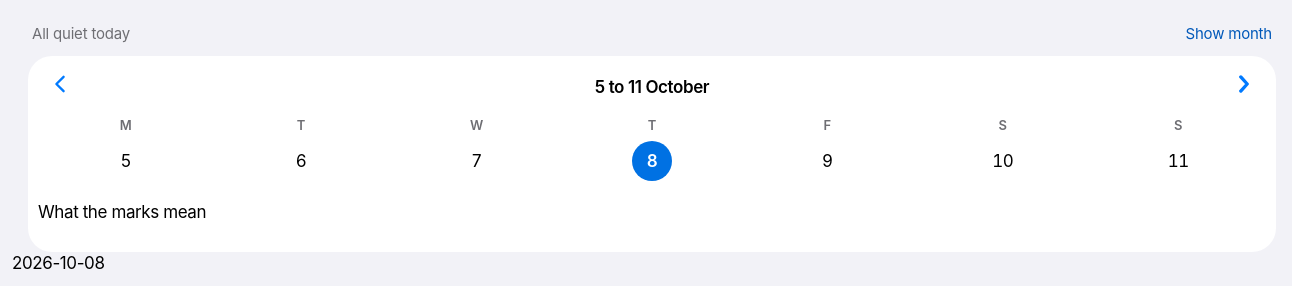
Test case: DatePicker › opens on this week with today chosen and the line beside it; Today comes back, with focus on today
Expected: the text "5 to 11 October" is shown, [595,77,709,97]
// Another day: Today in place of the line.
Click the button "6". click: {"x": 301, "y": 161}
box: [213,138,389,184]
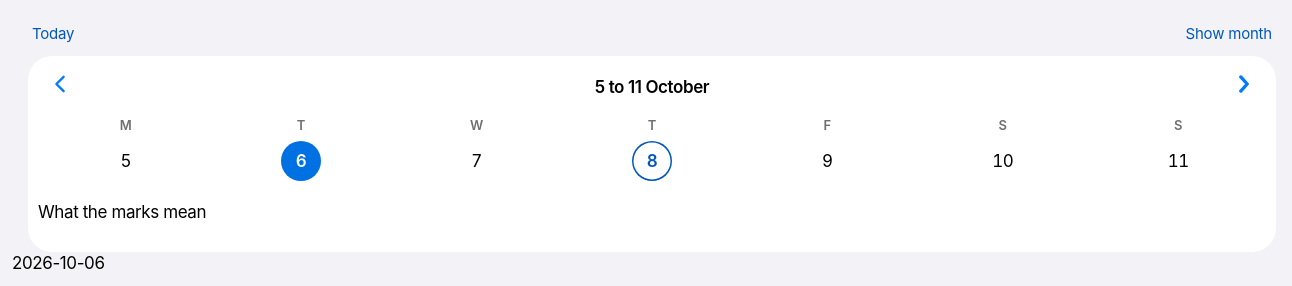
Click the button named "Next week". click: {"x": 1244, "y": 84}
box: [1222,62,1266,106]
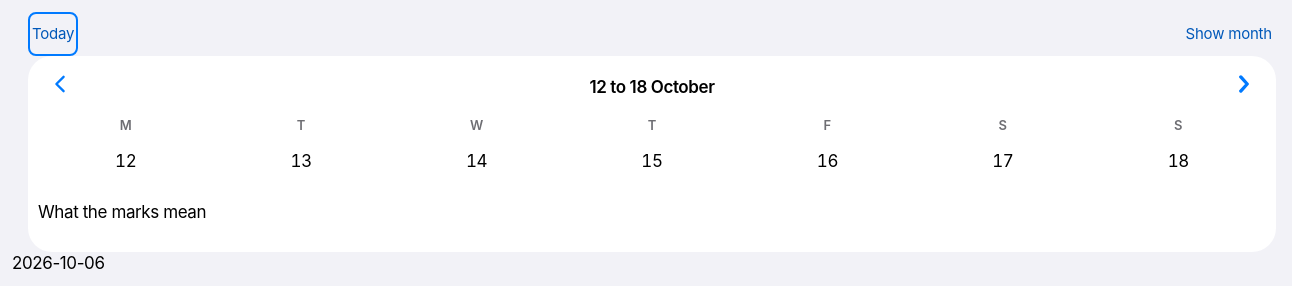
Now the table has attribute aria-label="Week of Monday 12 October", box [38,114,1266,184]
Click the button "Today". click: {"x": 53, "y": 34}
box: [28,12,78,56]
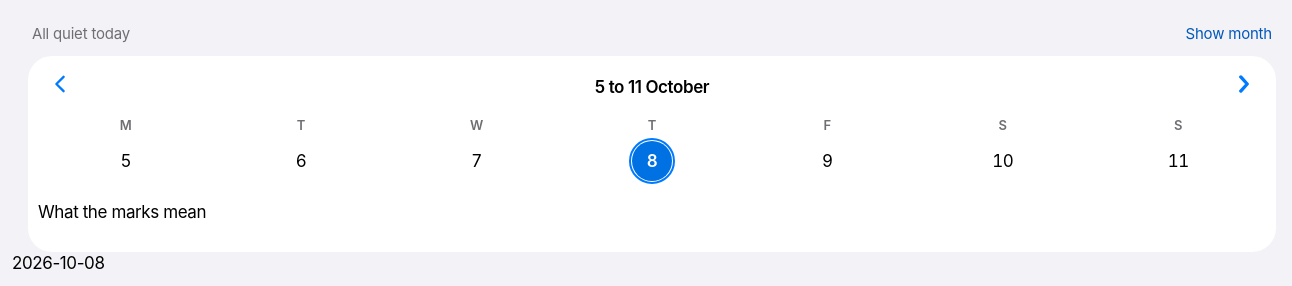
Now the text "All quiet today" is shown, box [32,24,130,43]
